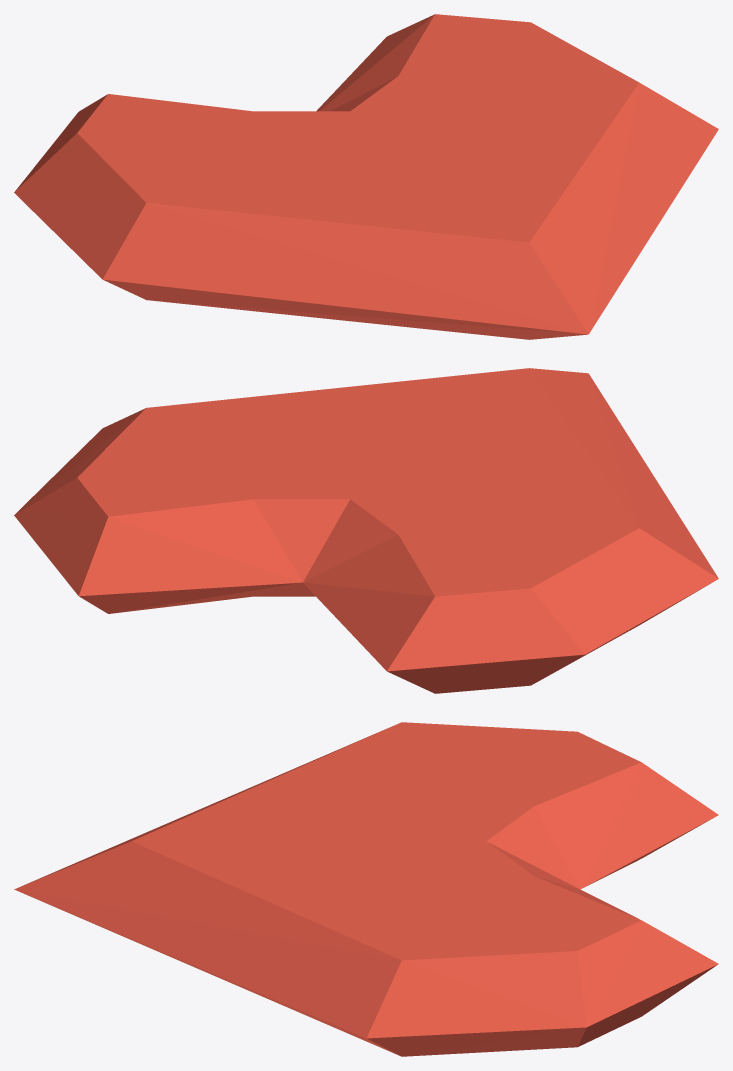
The model's file is heart_low_poly.fbx.
3 renders of one model, top to bottom at view 1: azimuth 30°, elevation 25°; view 2: azimuth 150°, elevation 25°; view 3: azimuth 270°, elevation 25°, orthographic.
Parts seen in each view (by area): view 1: Heart; view 2: Heart; view 3: Heart.
Boxes of the visible parts, x1=… form: Heart: x1=14, y1=14, x2=718, y2=339; Heart: x1=14, y1=368, x2=718, y2=693; Heart: x1=14, y1=722, x2=718, y2=1056.
Bounding box in the file's own units: 200 × 30.16 × 200.
